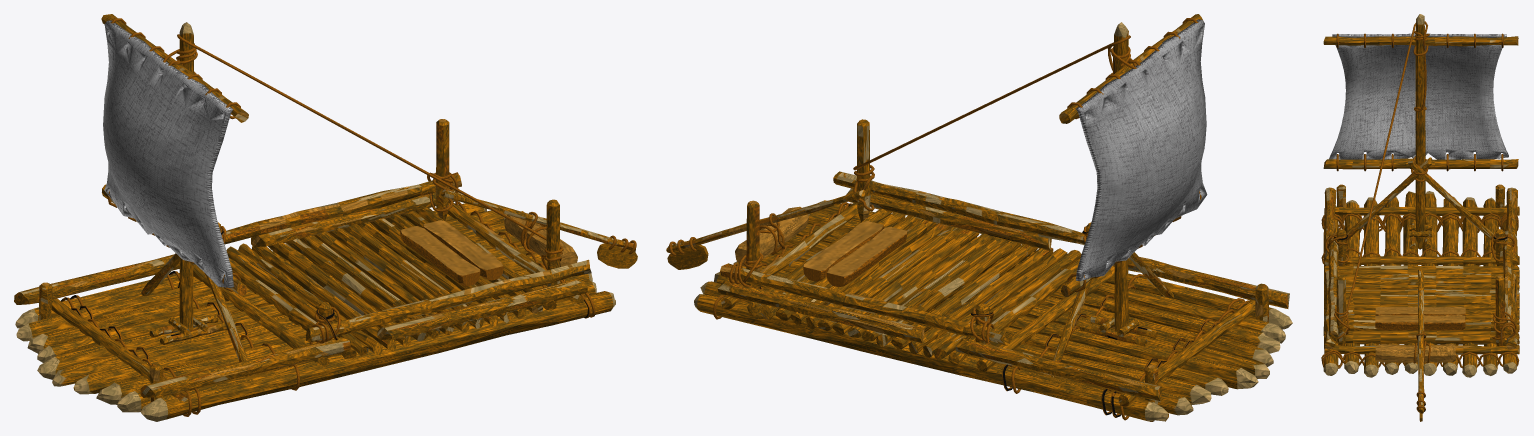
The model's file is argon_raft.glb.
3 renders of one model, left to right at view 1: azimuth 30°, elevation 25°; view 2: azimuth 150°, elevation 25°; view 3: azimuth 270°, elevation 25°, orthographic. The views are drawn at different scales.
Parts seen in each view (by area): view 1: object 3, alt, yelken, ip; view 2: object 3, alt, yelken, ip; view 3: object 3, yelken, alt, ip.
Boxes of the visible parts, x1,y1,x2,y2 form: object 3: (14,14,635,402); alt: (15,22,637,421); yelken: (103,20,233,287); ip: (61,18,636,416); object 3: (666,14,1289,421); alt: (667,22,1292,421); yelken: (1076,19,1207,281); ip: (669,18,1248,420); object 3: (1323,36,1519,413); yelken: (1329,33,1508,159); alt: (1323,14,1516,421); ip: (1321,21,1519,411).
Bounding box in the file's own units: 717 × 408 × 289.
Materials: 4 (4 with a texture image).
